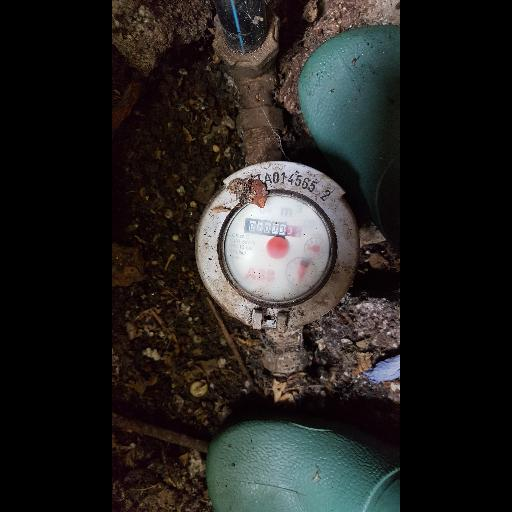0: (263, 222, 271, 234), (248, 221, 256, 232)
2: (257, 221, 264, 233)
3: (294, 226, 303, 238), (271, 223, 279, 235), (279, 224, 287, 236), (286, 225, 294, 237)
border_water_meter_number: (244, 215, 303, 241)
